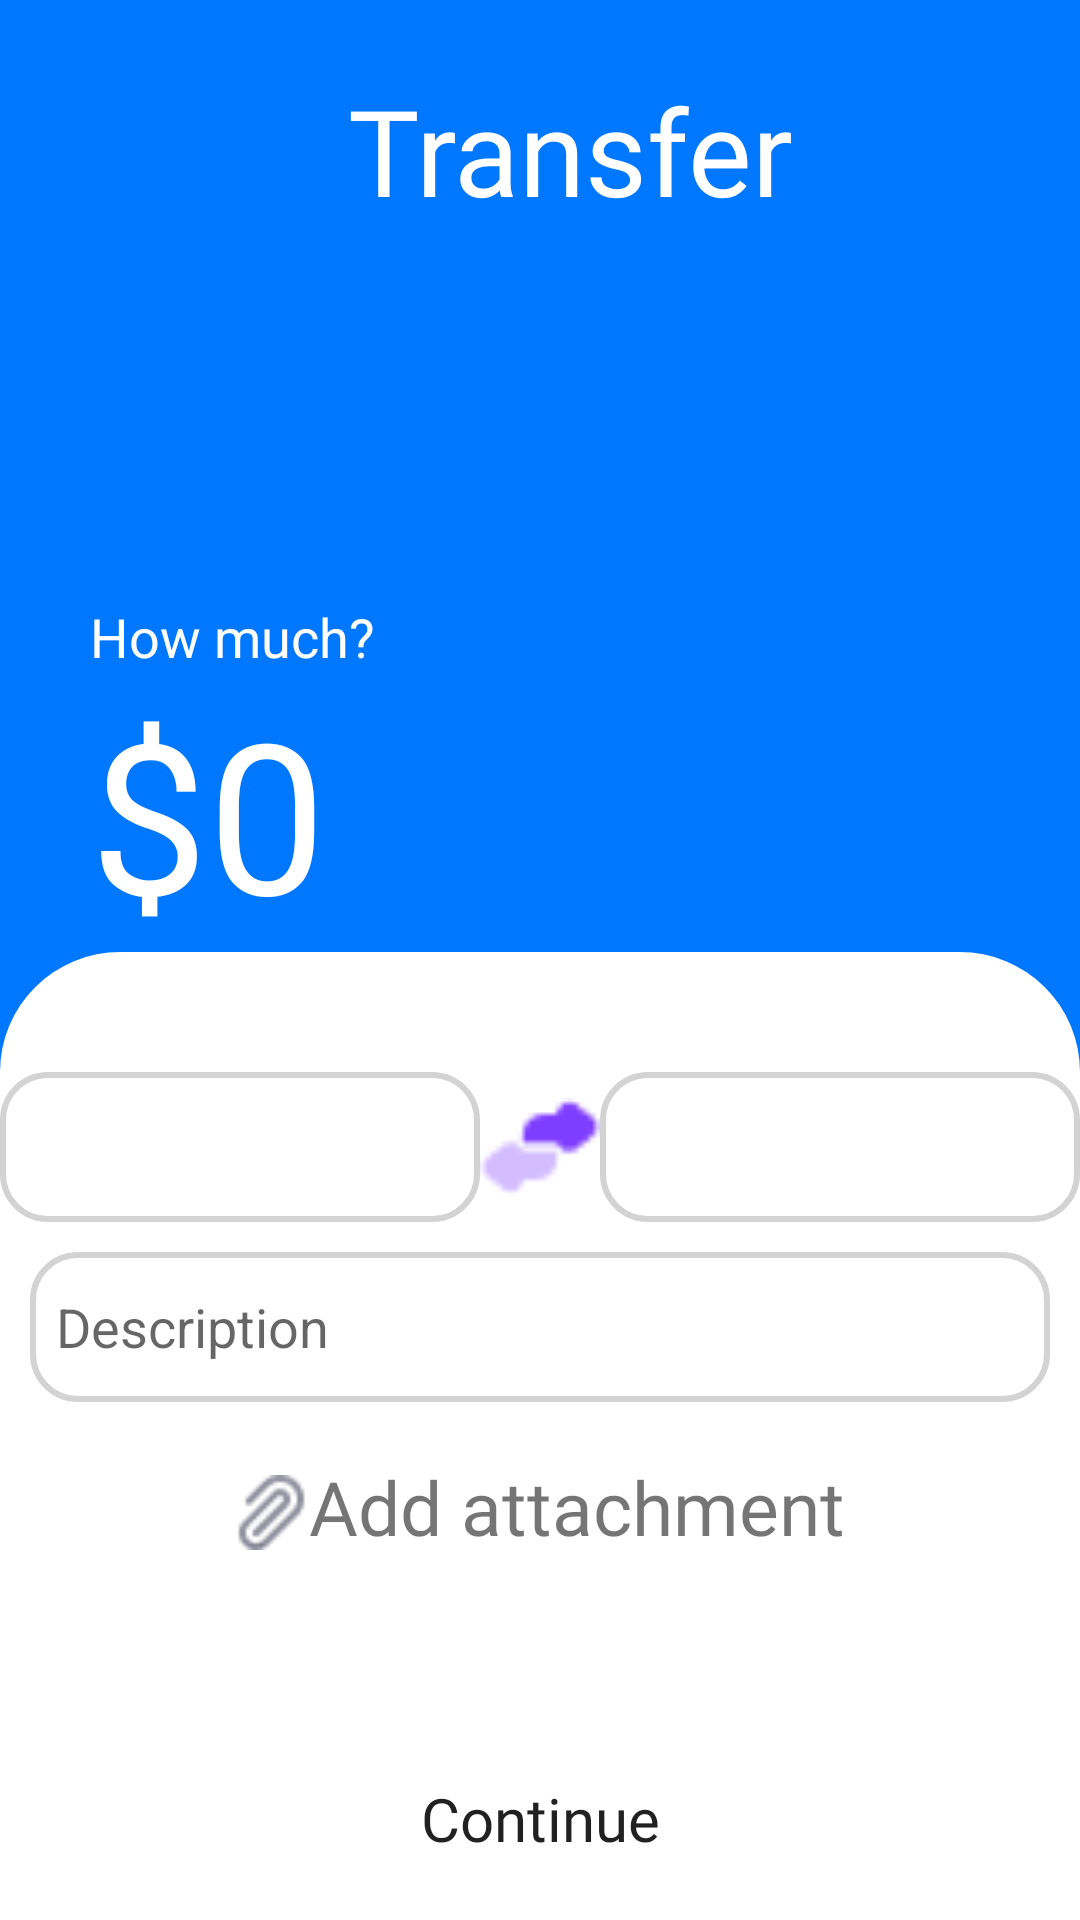

Icon bounding boxes for this 1080px x 1920px phone screenshot, format (x1, y1, x2, y2):
transfer: (483, 1101, 600, 1192)
